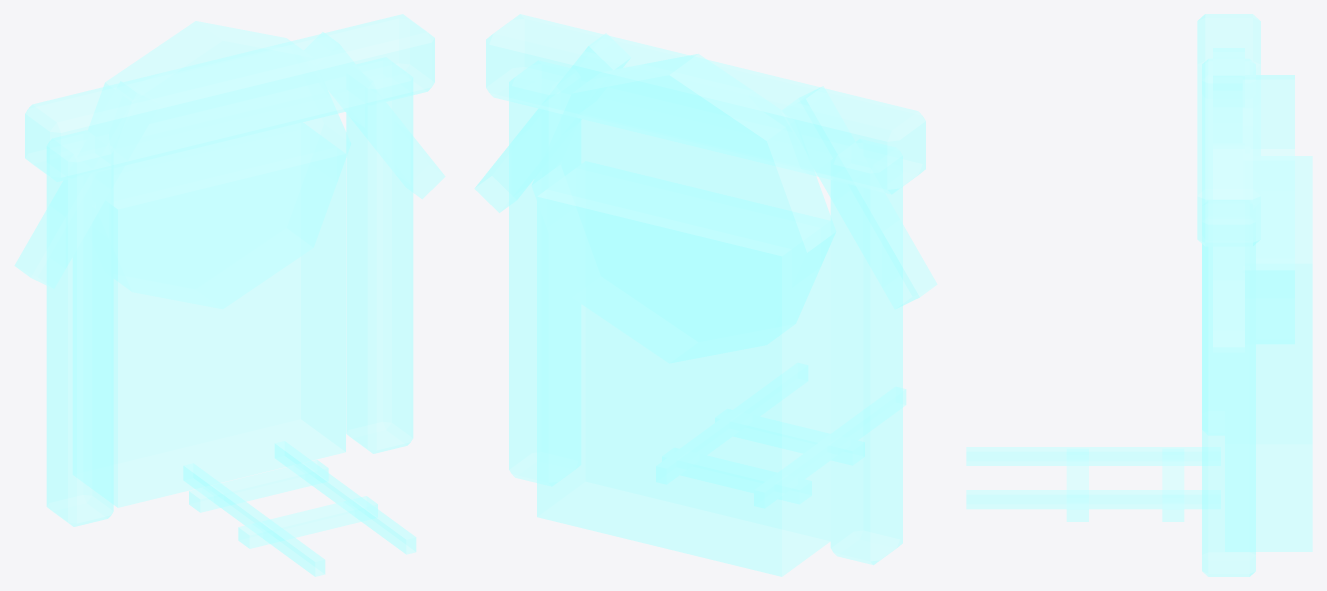
Rendered from GH_Mountain_MineEntrance.fbx.
The picture shows the model from 3 angles, left to right: view 1: azimuth 30°, elevation 25°; view 2: azimuth 150°, elevation 25°; view 3: azimuth 270°, elevation 25°; orthographic projection. The views are drawn at different scales.
Visible parts, largest first — view 1: SM_Mountain_MineEntrance; view 2: SM_Mountain_MineEntrance; view 3: SM_Mountain_MineEntrance.
Boxes of the visible parts, <box> form: SM_Mountain_MineEntrance: <box>14,14,445,576</box>; SM_Mountain_MineEntrance: <box>474,14,937,576</box>; SM_Mountain_MineEntrance: <box>966,14,1312,576</box>.
Size of the model in its own units: 2.91 by 2.9 by 2.18.
